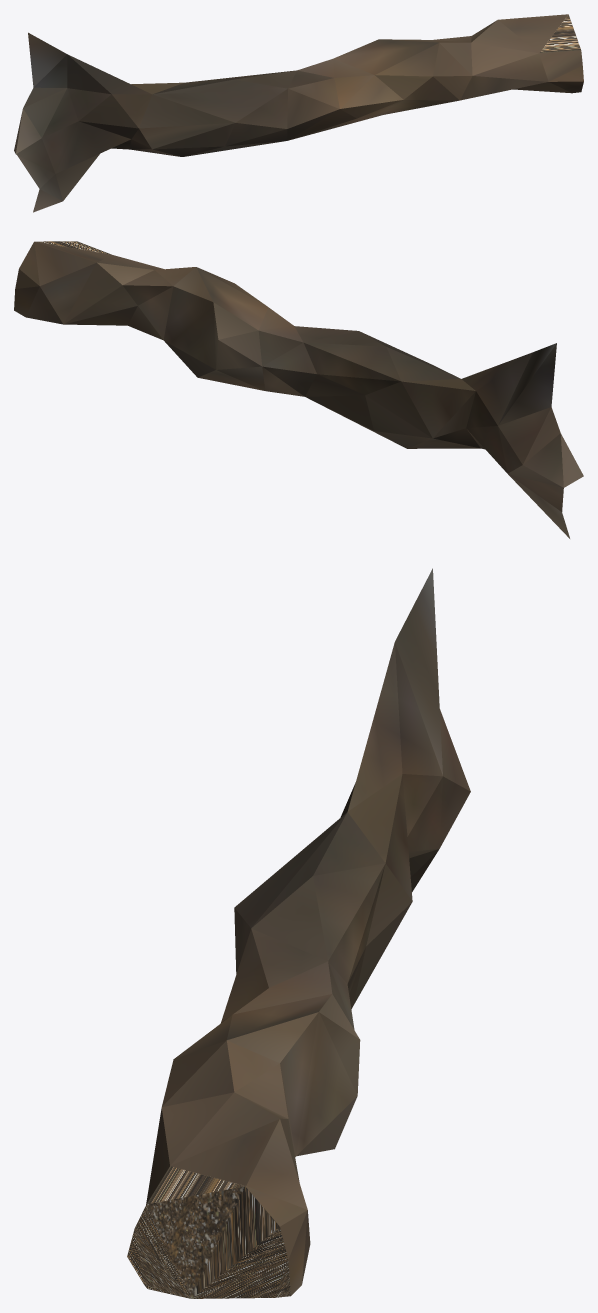
File: Sungaya_inexpectata_31mg.obj
3 renders of one model, top to bottom at view 1: azimuth 30°, elevation 25°; view 2: azimuth 150°, elevation 25°; view 3: azimuth 270°, elevation 25°, orthographic. The views are drawn at different scales.
Parts seen in each view (by area): view 1: 20-f-l-claws_Sungaya_inexpectata_31mg; view 2: 20-f-l-claws_Sungaya_inexpectata_31mg; view 3: 20-f-l-claws_Sungaya_inexpectata_31mg.
Boxes of the visible parts, x1,y1,x2,y2 form: 20-f-l-claws_Sungaya_inexpectata_31mg: (14, 14, 583, 212); 20-f-l-claws_Sungaya_inexpectata_31mg: (14, 241, 583, 538); 20-f-l-claws_Sungaya_inexpectata_31mg: (127, 568, 470, 1298).
Bounding box in the file's own units: 0.00141 × 0.000453 × 0.000407.
1 material, 1 textured.
